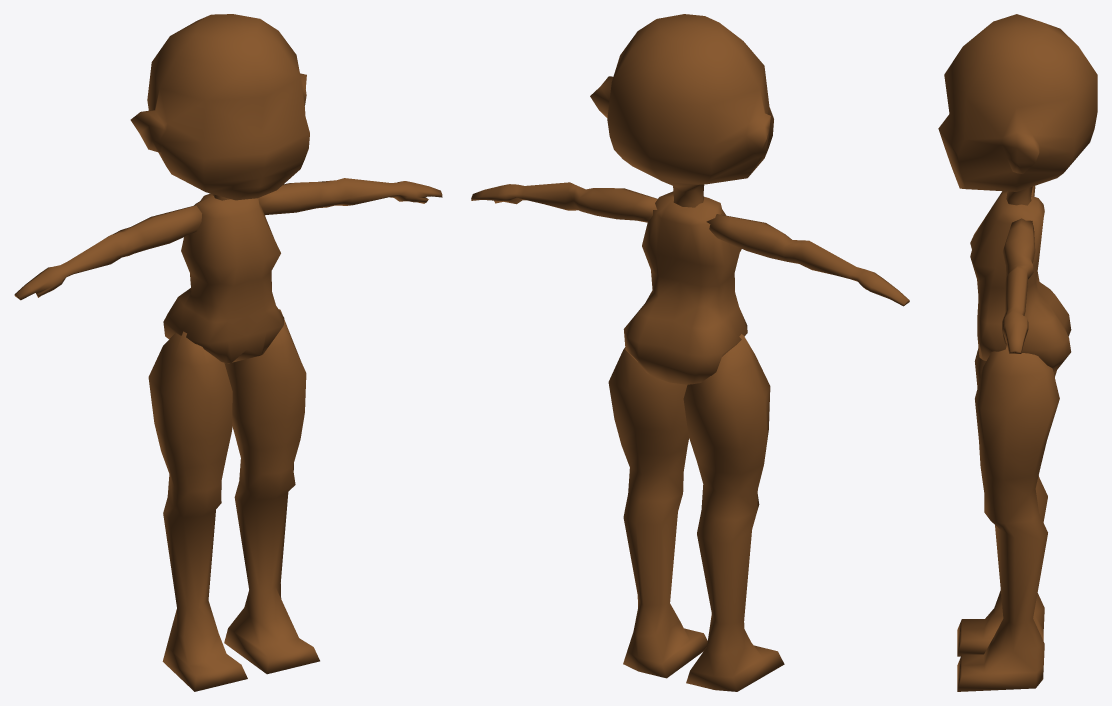
Rendered from ModularCharacters_Mid.fbx.
The picture shows the model from 3 angles, left to right: view 1: azimuth 30°, elevation 25°; view 2: azimuth 150°, elevation 25°; view 3: azimuth 270°, elevation 25°; orthographic projection. The views are drawn at different scales.
Visible parts, largest first — view 1: Legs_Mid_HALF.001, Head_Round_HALF.001, Torso_Curved_HALF.001, Arms_Mid_HALF.001; view 2: Legs_Mid_HALF.001, Head_Round_HALF.001, Torso_Curved_HALF.001, Arms_Mid_HALF.001; view 3: Legs_Mid_HALF.001, Head_Round_HALF.001, Torso_Curved_HALF.001, Arms_Mid_HALF.001.
Part boxes in pixels (x1=…): Legs_Mid_HALF.001: x1=148, y1=309, x2=319, y2=691; Head_Round_HALF.001: x1=130, y1=14, x2=309, y2=200; Torso_Curved_HALF.001: x1=163, y1=193, x2=284, y2=363; Arms_Mid_HALF.001: x1=14, y1=178, x2=442, y2=300; Legs_Mid_HALF.001: x1=608, y1=334, x2=784, y2=691; Head_Round_HALF.001: x1=590, y1=14, x2=773, y2=207; Torso_Curved_HALF.001: x1=623, y1=191, x2=747, y2=384; Arms_Mid_HALF.001: x1=471, y1=182, x2=909, y2=306; Legs_Mid_HALF.001: x1=957, y1=346, x2=1059, y2=691; Head_Round_HALF.001: x1=938, y1=14, x2=1097, y2=205; Torso_Curved_HALF.001: x1=970, y1=191, x2=1071, y2=371; Arms_Mid_HALF.001: x1=1002, y1=186, x2=1035, y2=353.
Bounding box in the file's own units: 113 × 161 × 36.66.
